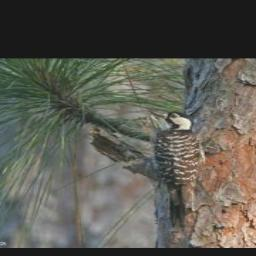Woodpecker: (146, 110, 222, 235)
